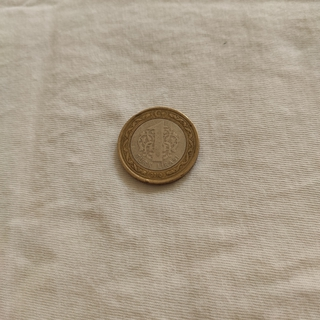1TL: (115, 105, 200, 186)
